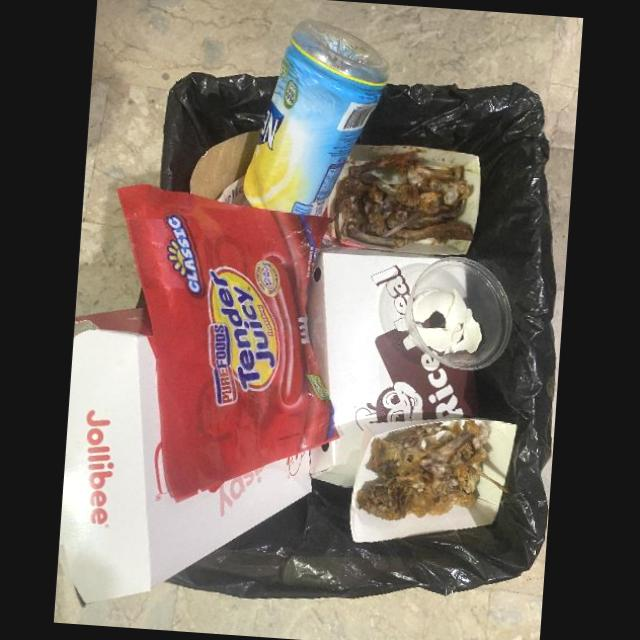bao_bi_thuc_pham: (116, 183, 337, 502)
carton: (58, 309, 310, 607), (305, 246, 473, 487)
chai_nhua_pet: (239, 37, 389, 214)
thuc_an_thua: (356, 419, 507, 518), (333, 150, 473, 249)
vo_trung: (413, 287, 481, 354)
